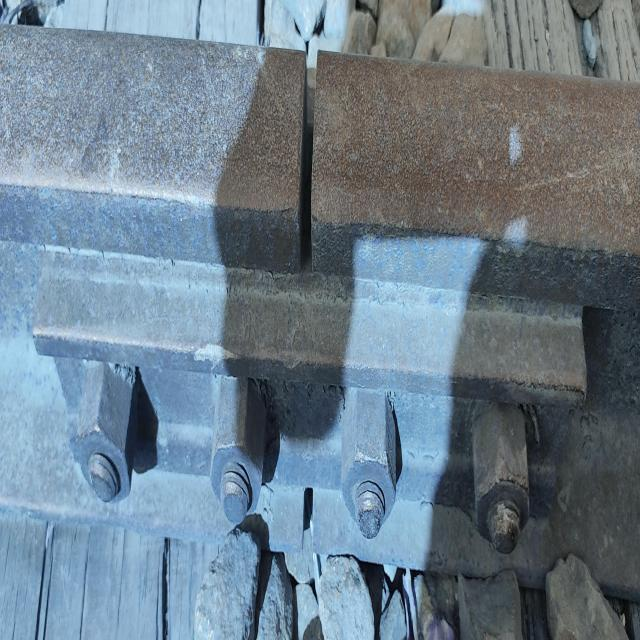Good Joint: (34, 242, 590, 562)
